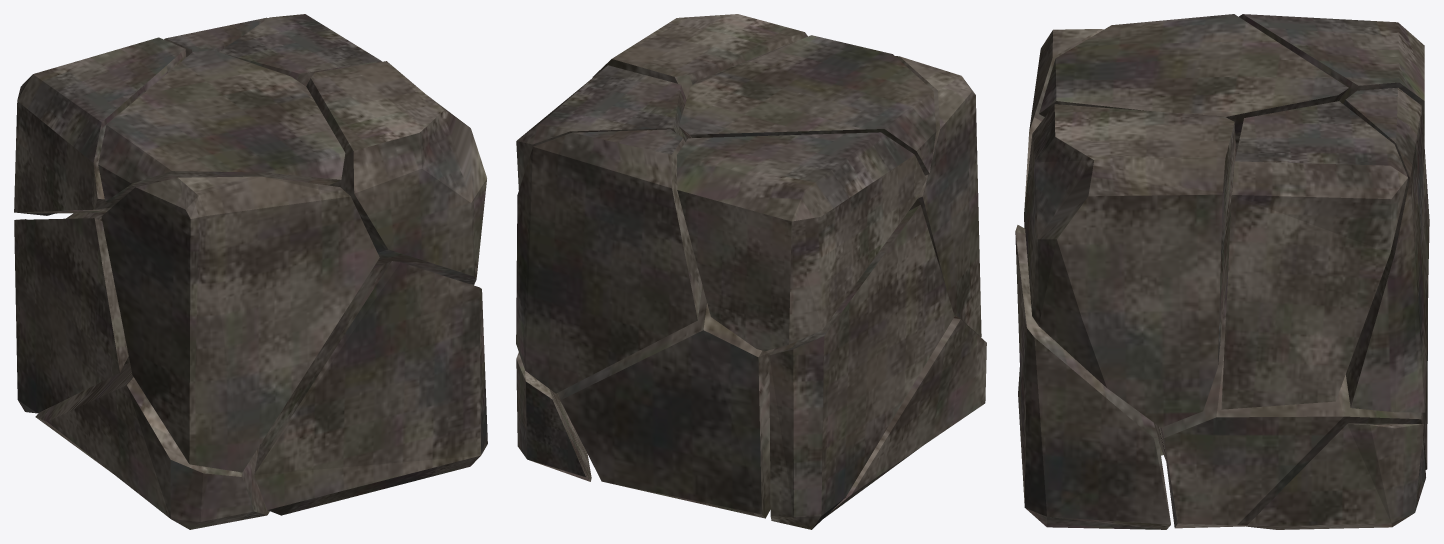
Rendered from crispy_block.glb.
The picture shows the model from 3 angles, left to right: view 1: azimuth 30°, elevation 25°; view 2: azimuth 150°, elevation 25°; view 3: azimuth 270°, elevation 25°; orthographic projection. The views are drawn at different scales.
Parts seen in each view (by area): view 1: Stone_4, Stone_11, Stone_6, Stone_1, Stone_9, Stone_5, Stone_2, Stone_3, Stone_10; view 2: Stone_10, Stone_5, Stone_9, Stone_8, Stone_1, Stone_4, Stone_2, Stone_6, Stone_3, Stone_7; view 3: Stone_6, Stone_3, Stone_11, Stone_1, Stone_8, Stone_10, Stone_7, Stone_5, Stone_4.
Part boxes in pixels (x1,y1,x2,y2): Stone_4: [101, 176, 379, 472]; Stone_11: [254, 261, 487, 515]; Stone_6: [306, 61, 486, 285]; Stone_1: [98, 50, 345, 203]; Stone_9: [14, 218, 128, 413]; Stone_5: [14, 37, 186, 215]; Stone_2: [35, 362, 269, 529]; Stone_3: [219, 14, 381, 86]; Stone_10: [164, 17, 268, 56]; Stone_10: [516, 129, 702, 393]; Stone_5: [677, 132, 926, 351]; Stone_9: [769, 205, 954, 529]; Stone_8: [557, 285, 774, 518]; Stone_1: [679, 35, 936, 175]; Stone_4: [895, 56, 981, 337]; Stone_2: [823, 318, 986, 518]; Stone_6: [592, 14, 807, 99]; Stone_3: [516, 65, 687, 189]; Stone_7: [516, 352, 591, 481]; Stone_6: [1024, 104, 1235, 427]; Stone_3: [1221, 101, 1407, 409]; Stone_11: [1015, 225, 1170, 529]; Stone_1: [1039, 14, 1348, 154]; Stone_8: [1154, 269, 1428, 528]; Stone_10: [1343, 87, 1429, 412]; Stone_7: [1246, 423, 1425, 529]; Stone_5: [1239, 14, 1424, 143]; Stone_4: [1024, 29, 1103, 228].
Size of the model in its own units: 97.4 by 96.48 by 97.53.
1 material, 1 textured.
